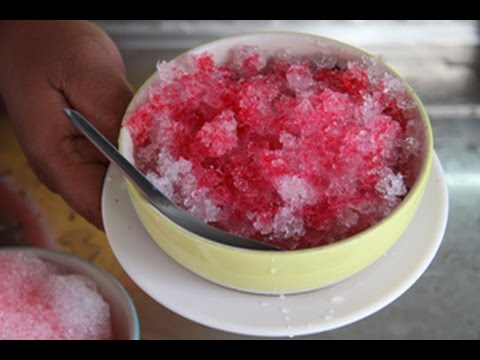O-eo: (119, 27, 435, 304)
